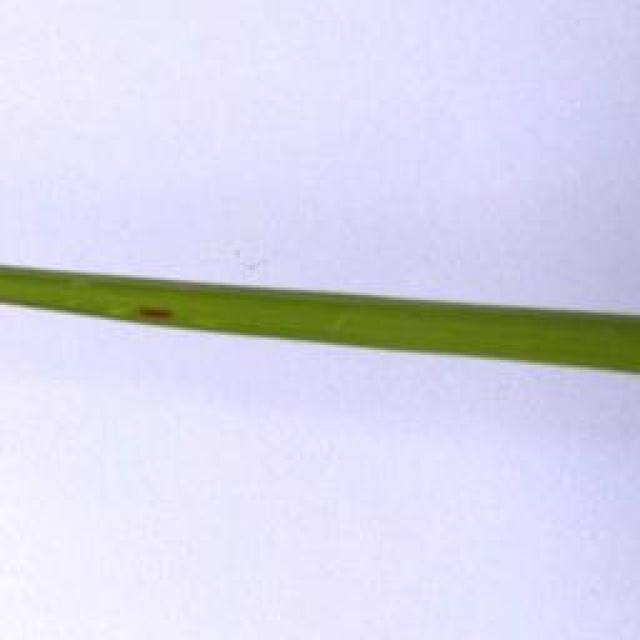Brown_Spot: (132, 304, 176, 324)
